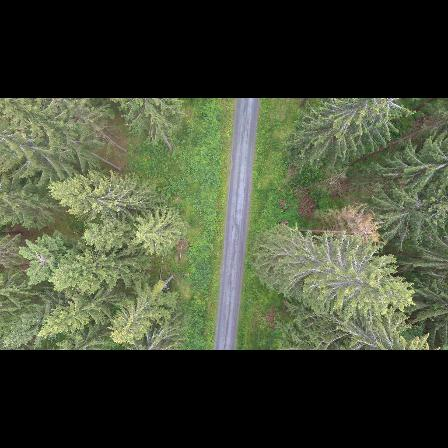Sick: (24, 242, 60, 280)
